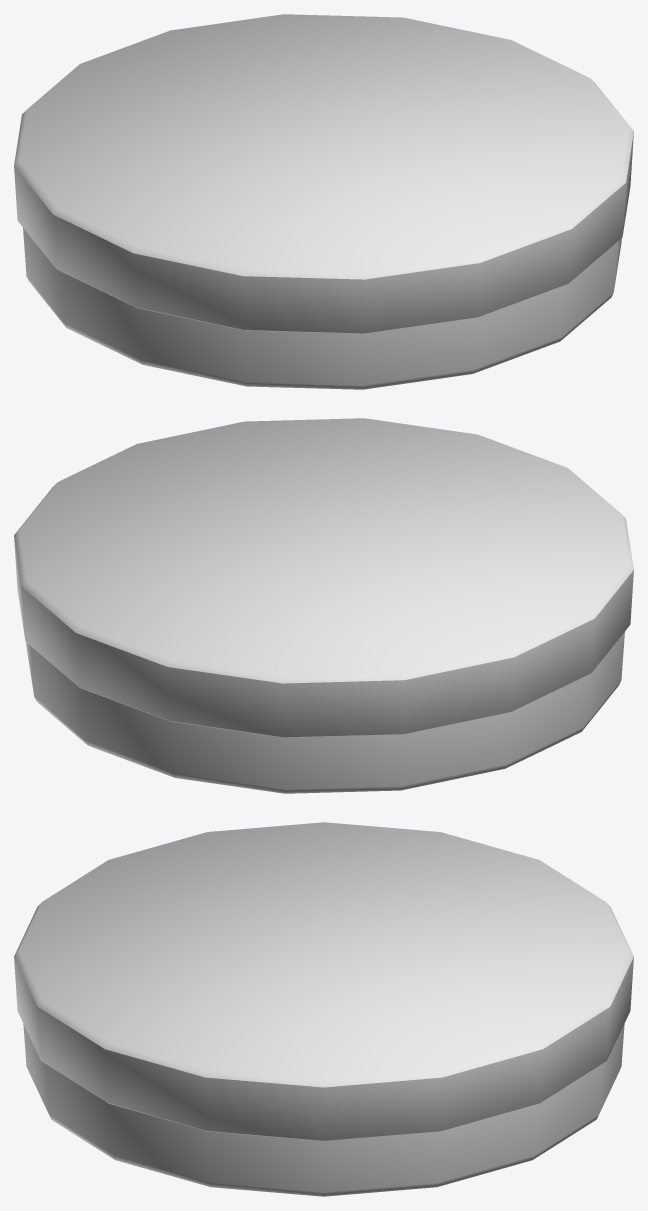
The model's file is LC_3025_Smokedetector_LOD3.FBX.
3 views of the same model, one above another, from view 1: azimuth 30°, elevation 25°; view 2: azimuth 150°, elevation 25°; view 3: azimuth 270°, elevation 25° (orthographic).
Visible parts, largest first — view 1: LC_3025_Smokedetector_LOD3; view 2: LC_3025_Smokedetector_LOD3; view 3: LC_3025_Smokedetector_LOD3.
Boxes of the visible parts, x1,y1,x2,y2 form: LC_3025_Smokedetector_LOD3: (14,14,633,389); LC_3025_Smokedetector_LOD3: (14,418,633,793); LC_3025_Smokedetector_LOD3: (14,822,633,1196).
Size of the model in its own units: 24.14 by 8.15 by 24.14.
1 material, 1 textured.
